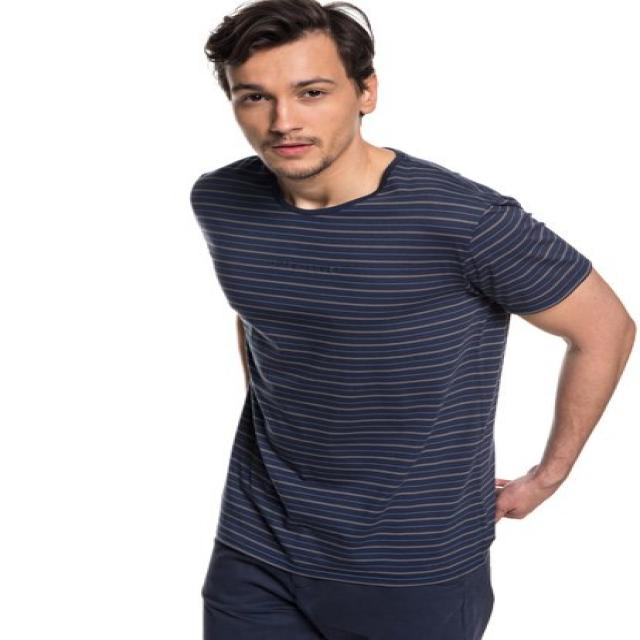mobile_phonerotation: (185, 0, 637, 639)
